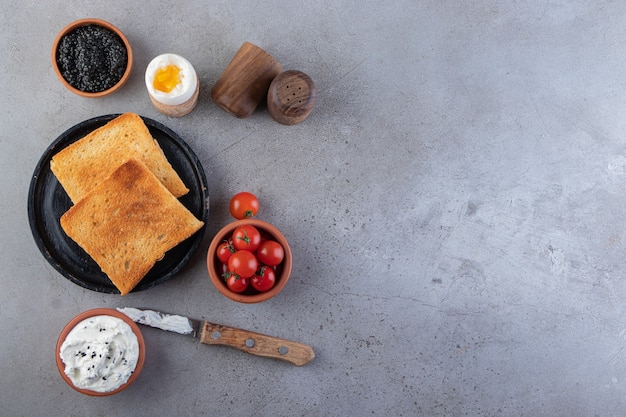knife: (115, 307, 316, 367)
